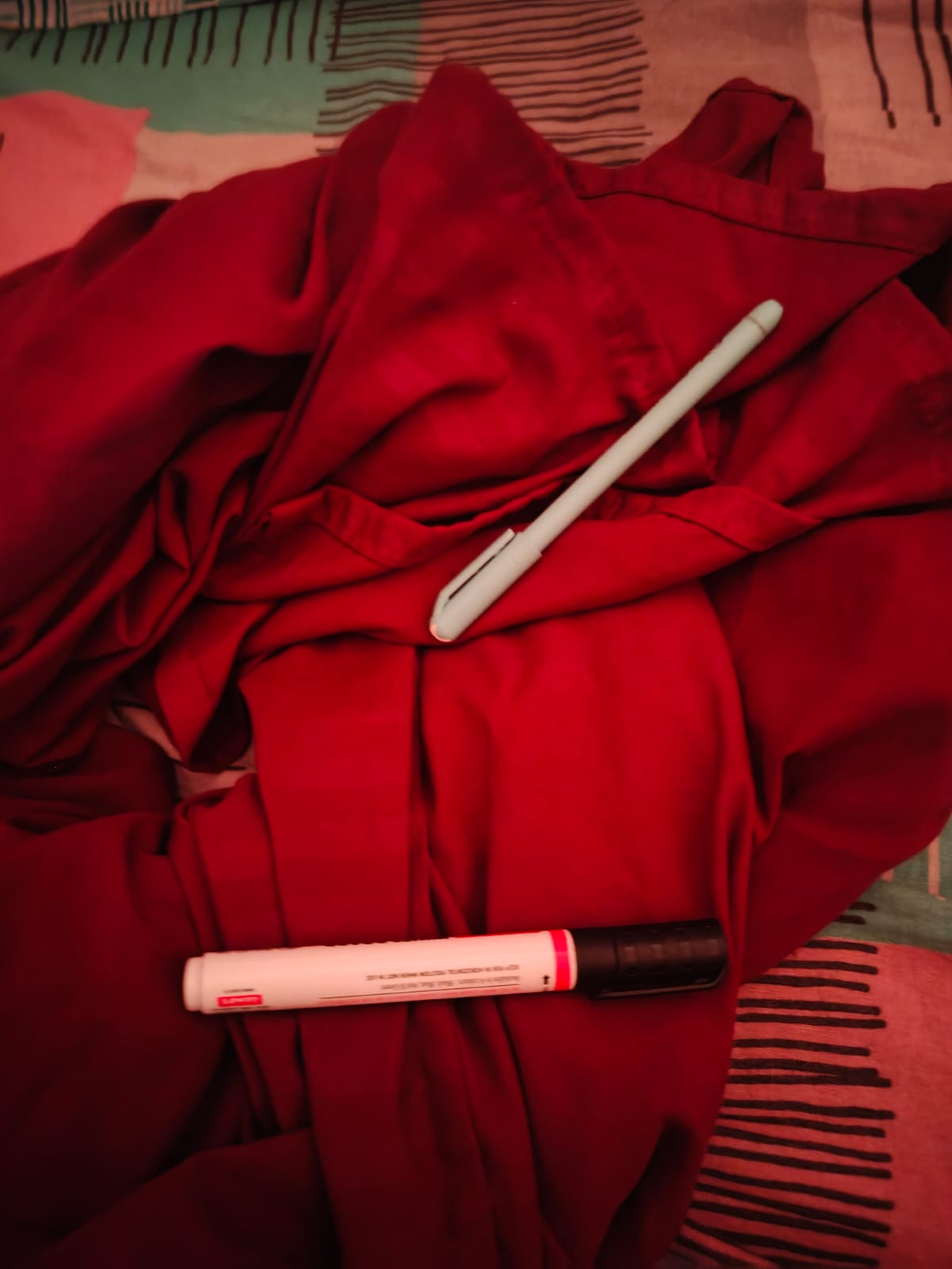case: (172, 895, 729, 1030)
pen: (420, 284, 800, 668)
